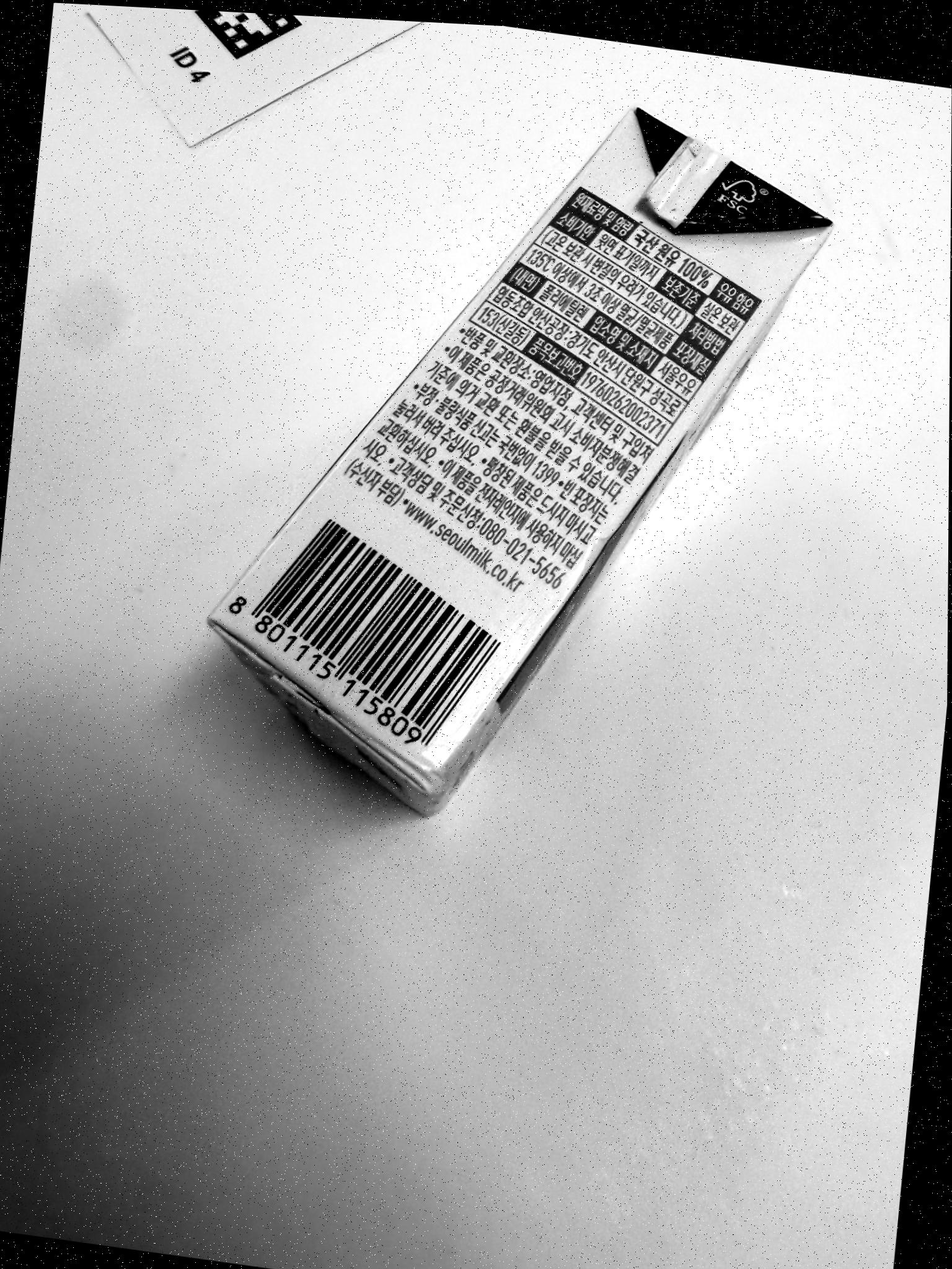milk_blue: (210, 111, 830, 814)
